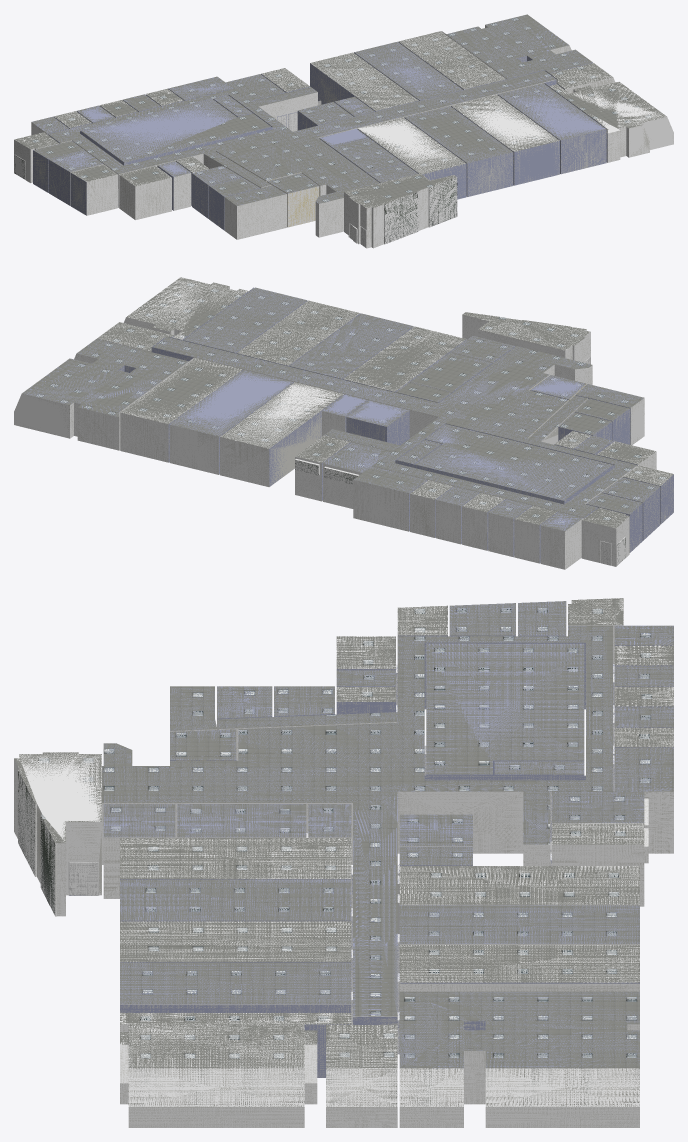
Rendered from Beta6.fbx.
The picture shows the model from 3 angles, top to bottom: view 1: azimuth 30°, elevation 25°; view 2: azimuth 150°, elevation 25°; view 3: azimuth 270°, elevation 25°; orthographic projection. The views are drawn at different scales.
Parts seen in each view (by area): view 1: Tavani1, Map1; view 2: Tavani1, Map1; view 3: Tavani1, Map1.
Boxes of the visible parts, <box> form: Tavani1: <box>14,14,666,208</box>; Map1: <box>14,25,673,248</box>; Tavani1: <box>22,277,673,531</box>; Map1: <box>14,286,673,569</box>; Tavani1: <box>14,598,673,1068</box>; Map1: <box>14,625,673,1127</box>.
Size of the model in its own units: 61.77 by 4.55 by 36.79.
